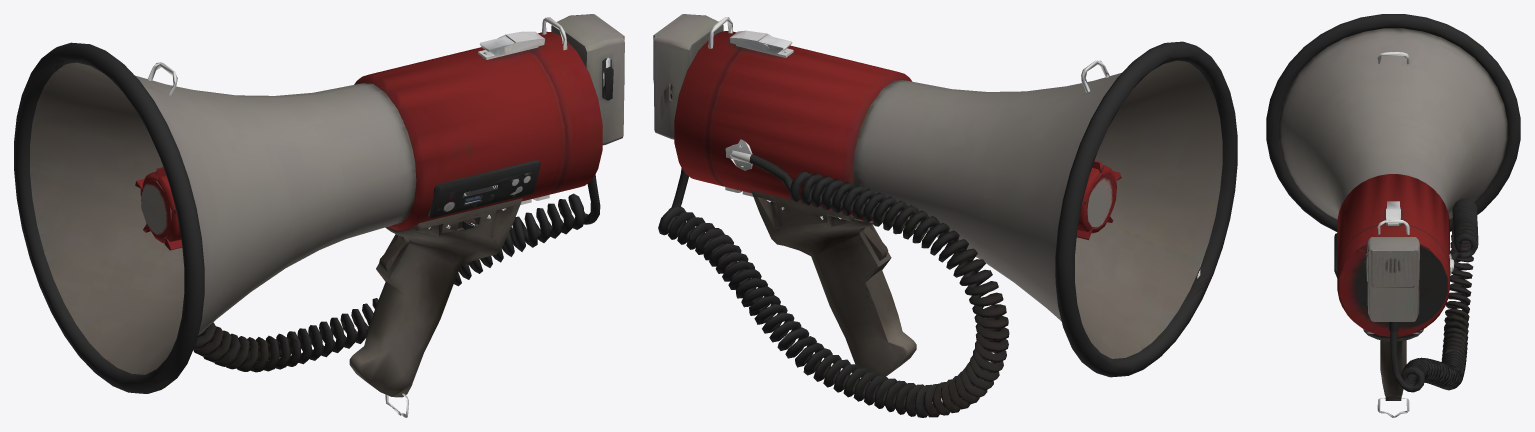
Rendered from megaphone-01.glb.
3 views of the same model, side by side, from view 1: azimuth 30°, elevation 25°; view 2: azimuth 150°, elevation 25°; view 3: azimuth 270°, elevation 25° (orthographic). The views are drawn at different scales.
Visible parts, largest first — view 1: megaphone_01; view 2: megaphone_01; view 3: megaphone_01.
Part boxes in pixels (x1,y1,x2,y2): megaphone_01: (14,14,624,417); megaphone_01: (653,14,1237,417); megaphone_01: (1266,14,1520,417).
Size of the model in its own units: 0.3707 by 0.2994 by 0.2277.
Materials: 1 (1 with a texture image).
